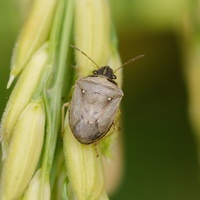insect: (68, 45, 144, 143)
